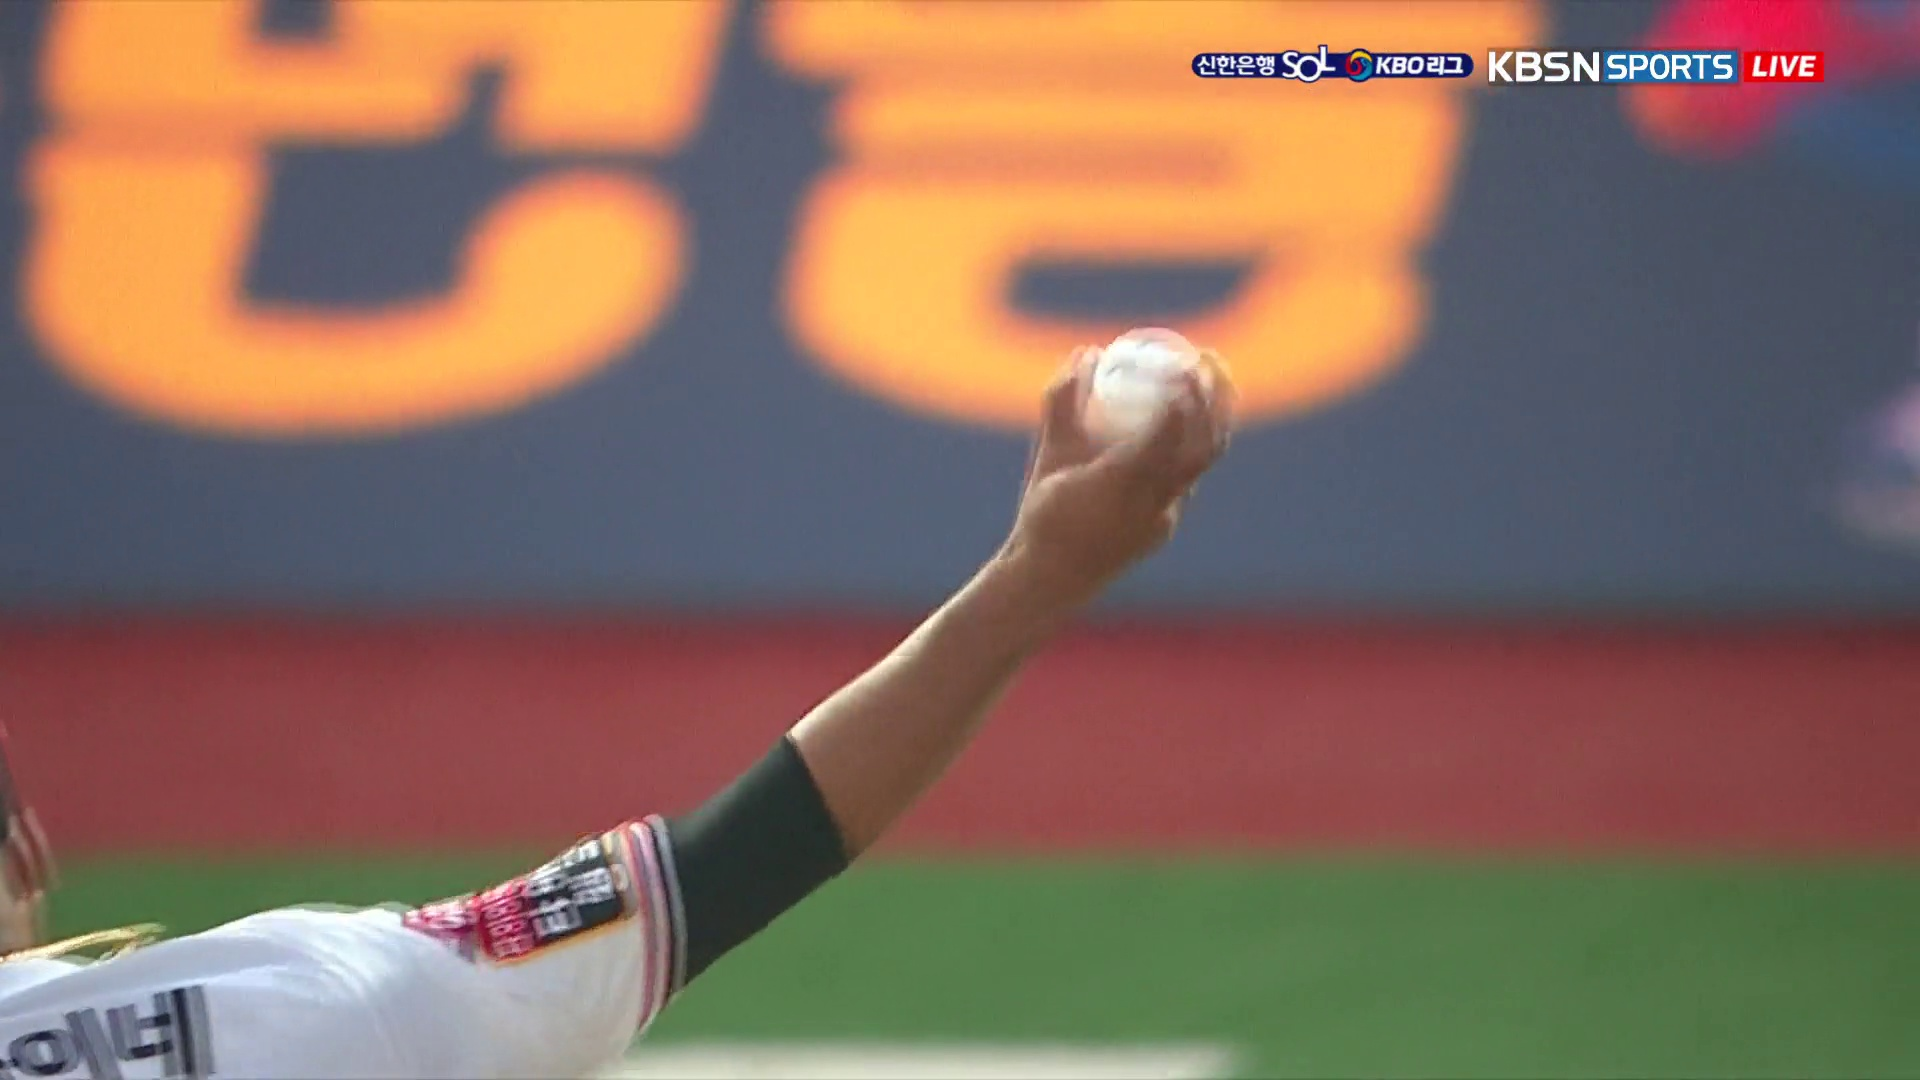zoomin_hand: (662, 316, 1244, 965)
